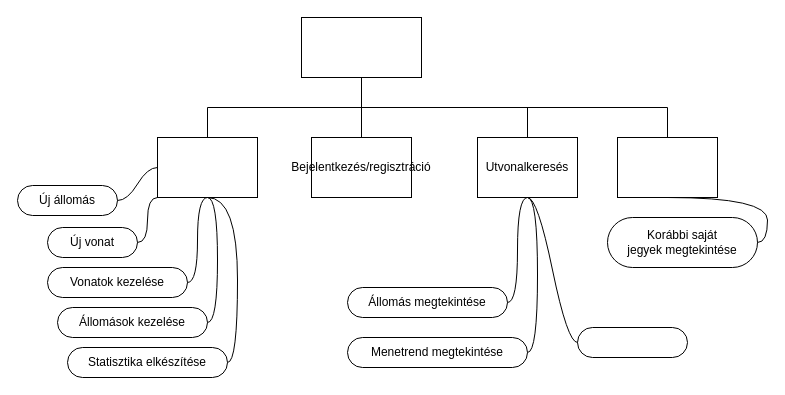
The diagram is 785 pixels wide and 395 high, and some of its shapes have lost their labels. Here are the shapes that lost their labels. From the top down, the box of each, then its label:
(300, 16, 422, 78): Kezdőlap
(156, 136, 258, 198): Admin felület
(616, 136, 718, 198): Profiloldal
(576, 326, 688, 358): Jegy váltása
